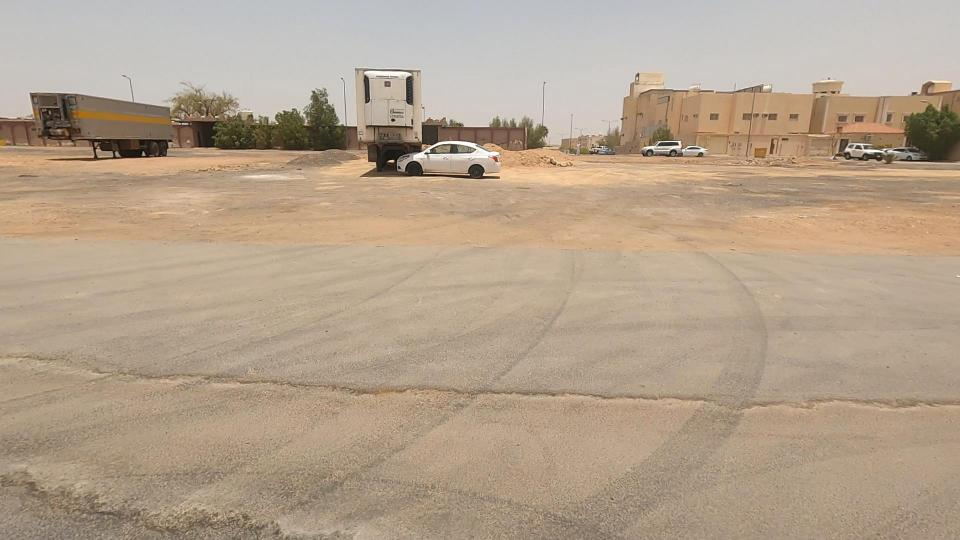POTHOLES: (159, 295, 576, 540), (0, 284, 314, 540), (419, 325, 769, 519)
